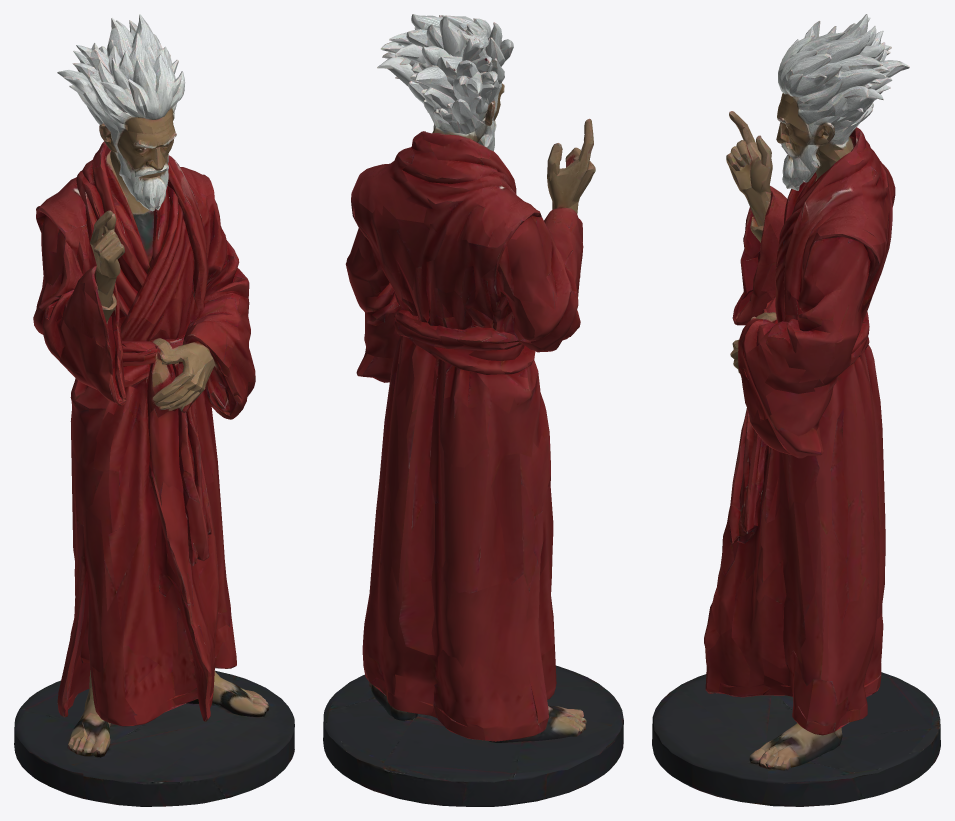
File: jeongjeong.glb
3 views of the same model, side by side, from view 1: azimuth 30°, elevation 25°; view 2: azimuth 150°, elevation 25°; view 3: azimuth 270°, elevation 25° (orthographic). The views are drawn at different scales.
Size of the model in its own units: 0.6843 by 1.9 by 0.6824.
Materials: 1 (1 with a texture image).
